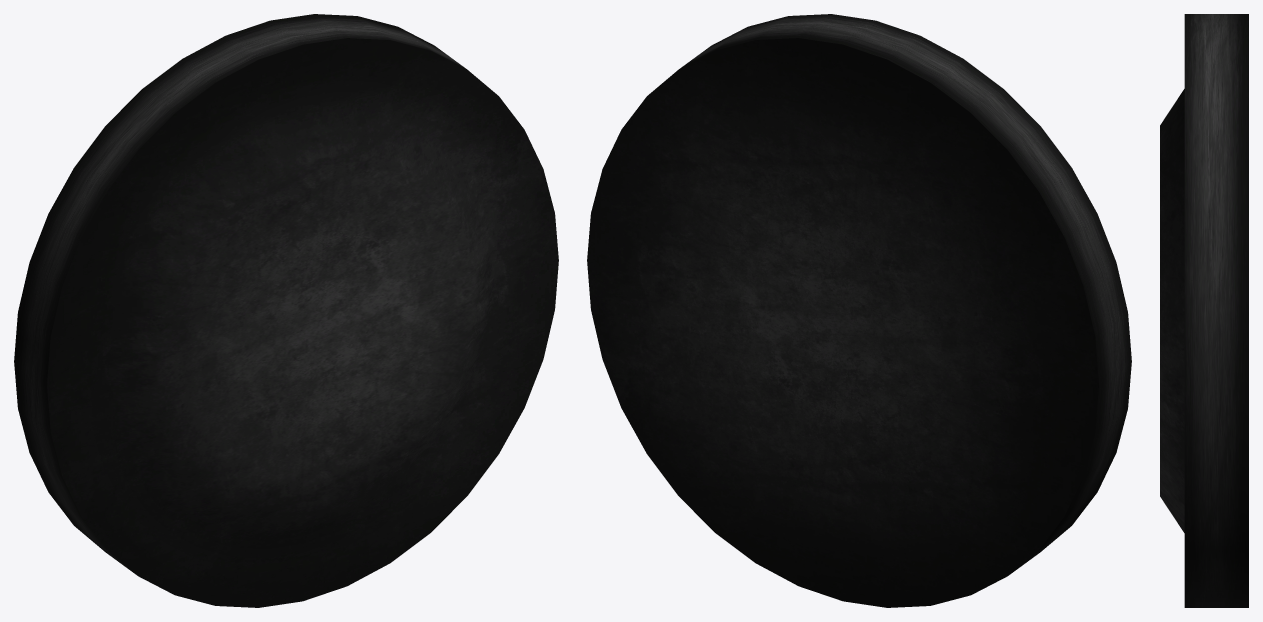
The model's file is ppo_button.gltf.
3 renders of one model, left to right at view 1: azimuth 30°, elevation 25°; view 2: azimuth 150°, elevation 25°; view 3: azimuth 270°, elevation 25°, orthographic. The views are drawn at different scales.
Visible parts, largest first — view 1: ppo_button; view 2: ppo_button; view 3: ppo_button.
Part boxes in pixels (left/top/right/bottom): ppo_button: left=14, top=14, right=558, bottom=607; ppo_button: left=587, top=14, right=1131, bottom=607; ppo_button: left=1160, top=14, right=1248, bottom=607.
Size of the model in its own units: 0.0182 by 0.0189 by 0.00279.
Materials: 1 (1 with a texture image).
